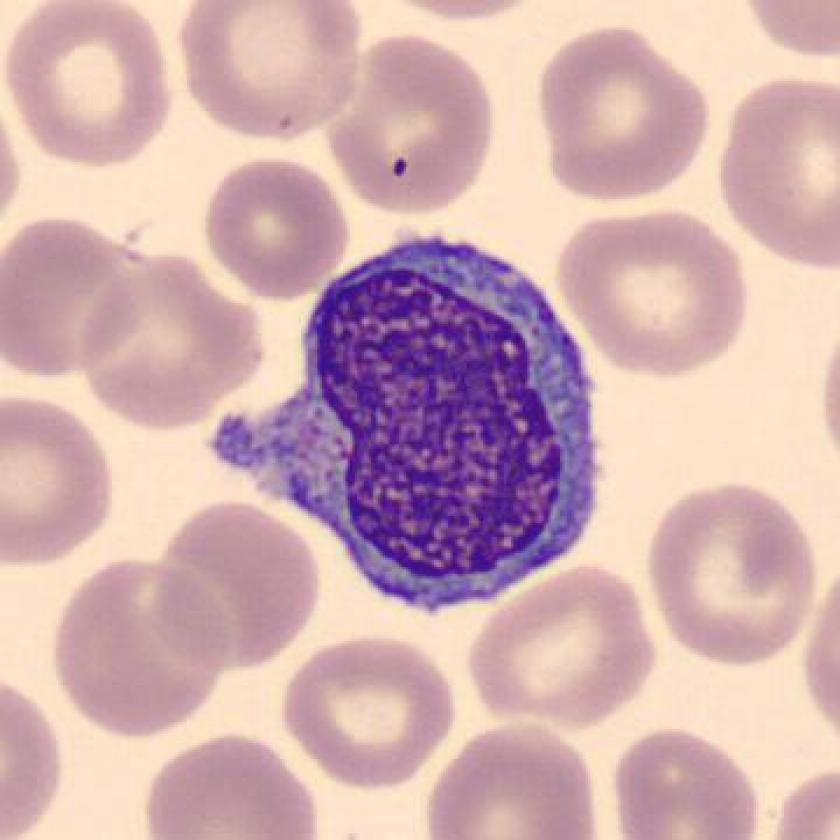monocyte: (195, 223, 622, 633)
